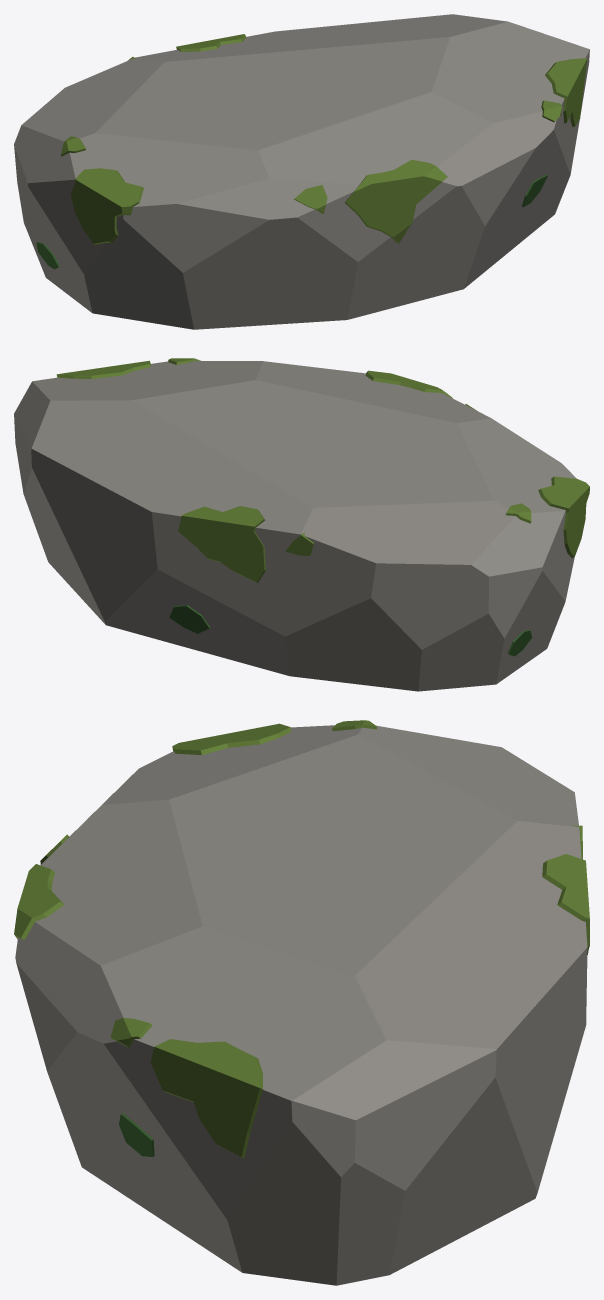
Rendered from large-boulder-a29b99.glb.
3 renders of one model, top to bottom at view 1: azimuth 30°, elevation 25°; view 2: azimuth 150°, elevation 25°; view 3: azimuth 270°, elevation 25°, orthographic. The views are drawn at different scales.
Visible parts, largest first — view 1: boulder; view 2: boulder; view 3: boulder.
Boxes of the visible parts, x1,y1,x2,y2 form: boulder: (14, 14, 589, 329); boulder: (14, 358, 589, 691); boulder: (14, 720, 589, 1285).
Size of the model in its own units: 2.2 by 0.66 by 1.39.
